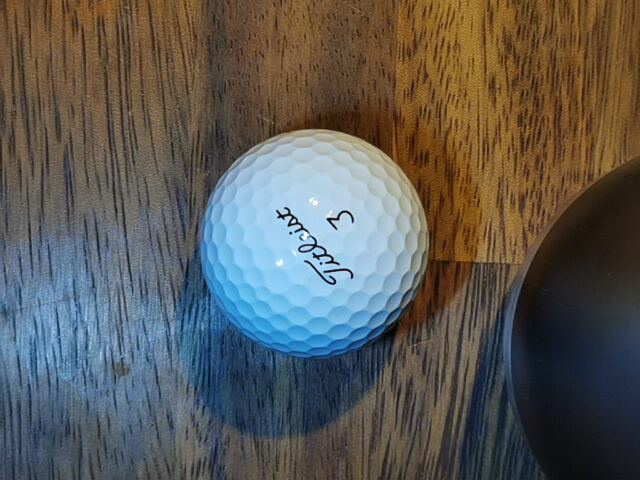Ball: (201, 129, 429, 359)
Titleist: (276, 206, 354, 285)
